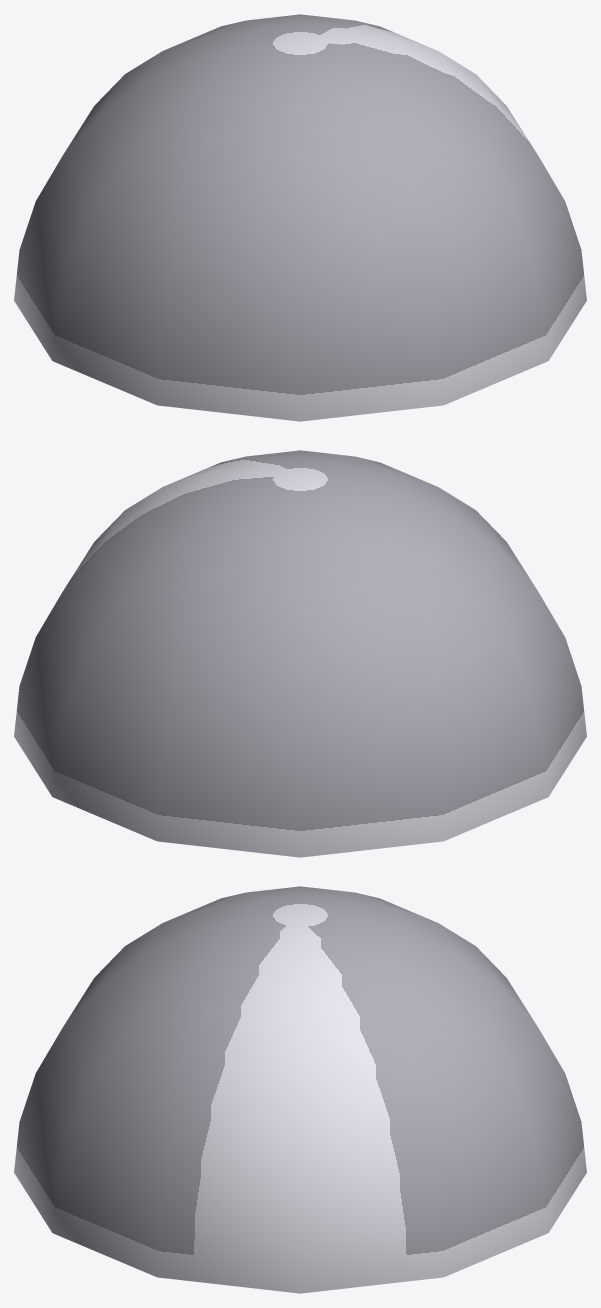
File: helm.glb
The picture shows the model from 3 angles, top to bottom: view 1: azimuth 30°, elevation 25°; view 2: azimuth 150°, elevation 25°; view 3: azimuth 270°, elevation 25°; orthographic projection.
Parts seen in each view (by area): view 1: helm; view 2: helm; view 3: helm.
Part boxes in pixels (x1,y1,x2,y2): helm: [14, 14, 586, 421]; helm: [14, 450, 586, 857]; helm: [14, 886, 586, 1293].
Size of the model in its own units: 0.26 by 0.13 by 0.26.
1 material, 1 textured.
